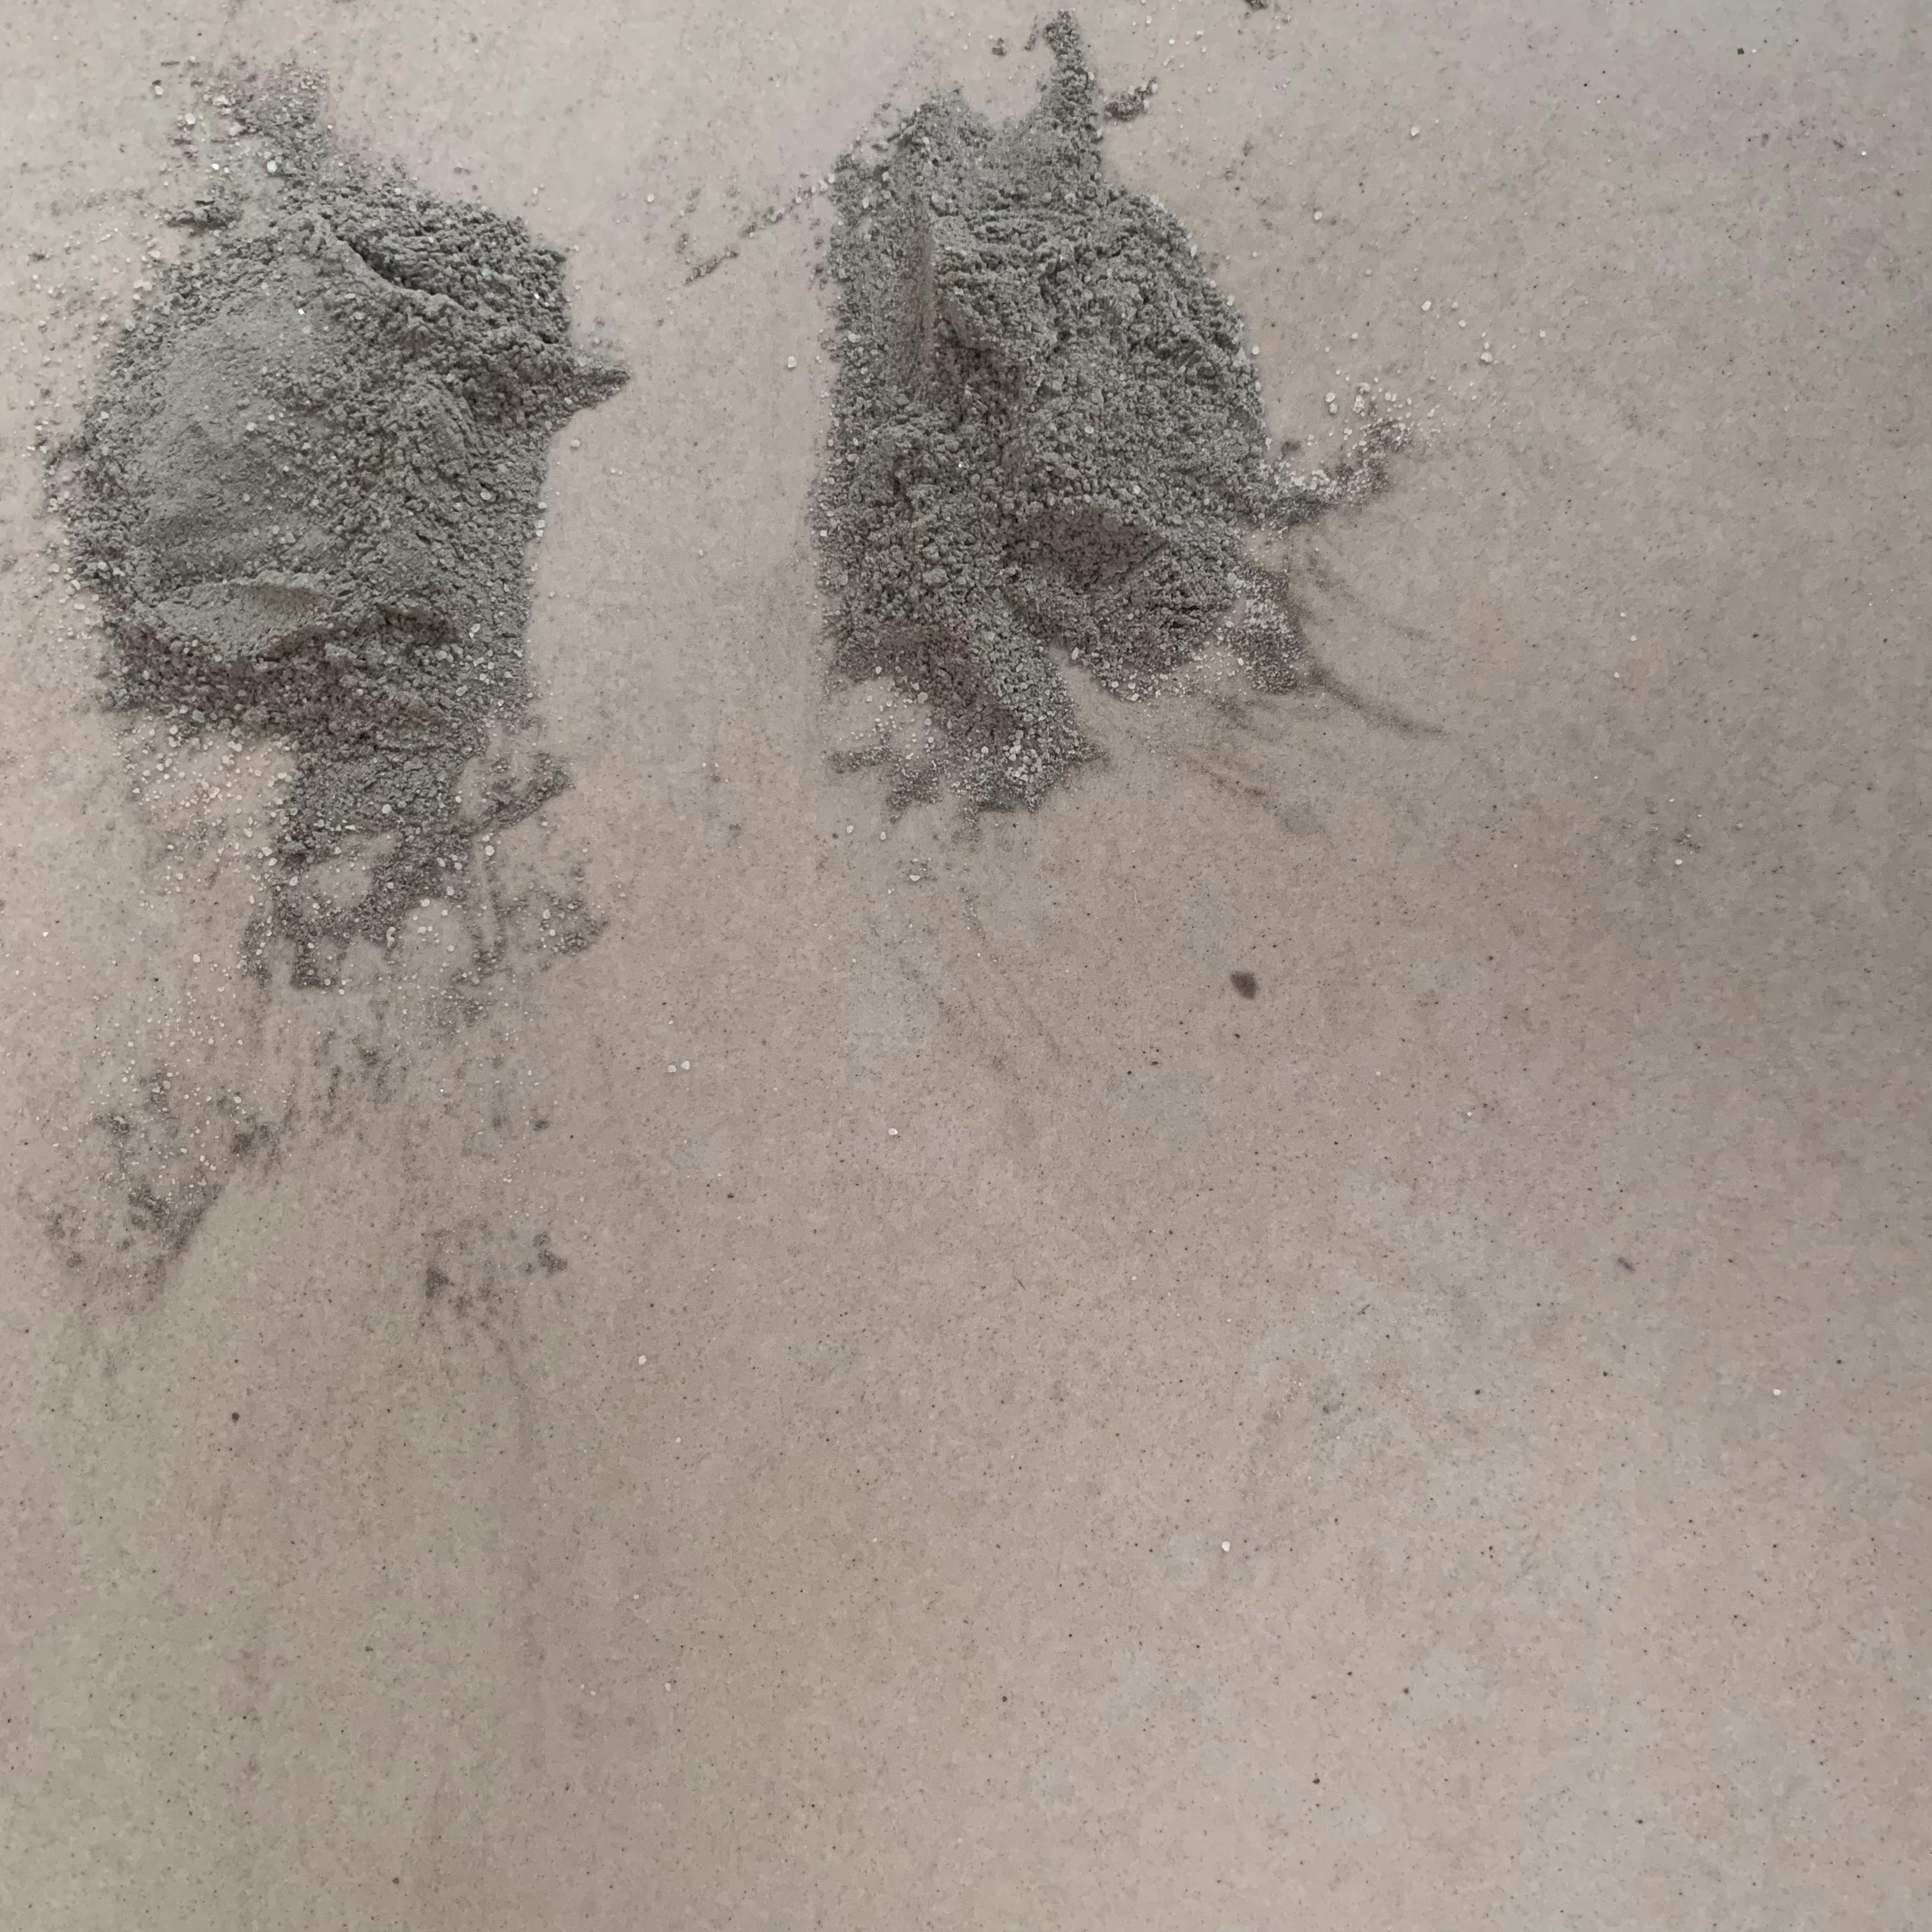ash pile: (35, 57, 621, 1343), (812, 9, 1445, 828)
grey spot: (1231, 971, 1258, 1001)
